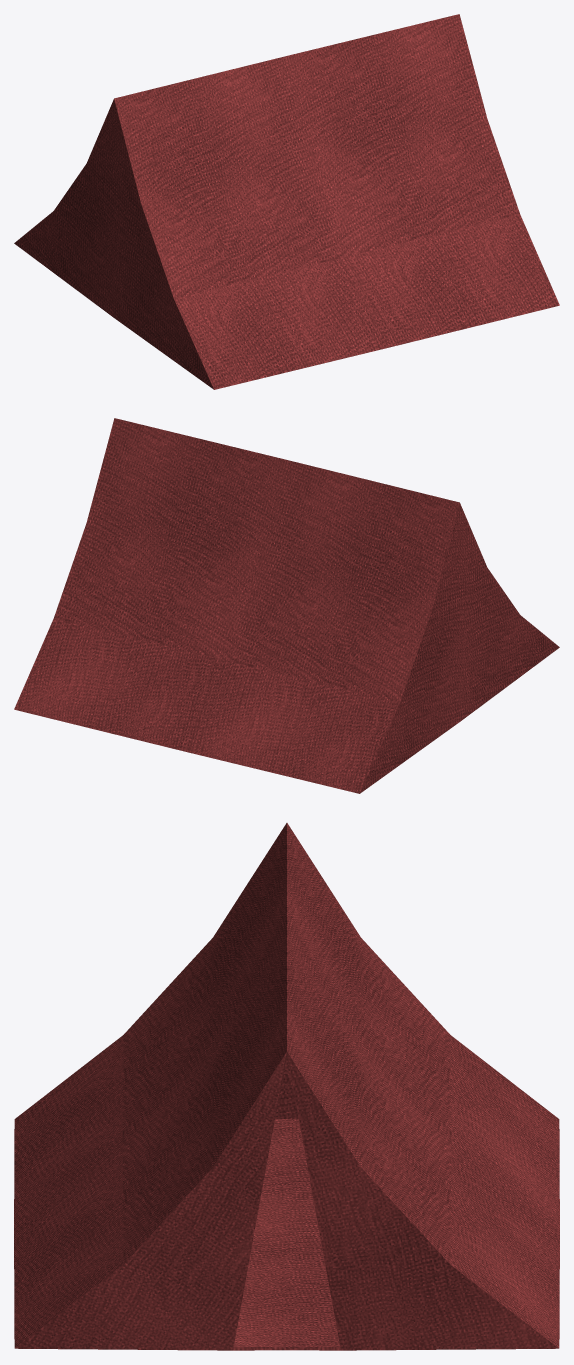
Rendered from Tent.fbx.
The picture shows the model from 3 angles, top to bottom: view 1: azimuth 30°, elevation 25°; view 2: azimuth 150°, elevation 25°; view 3: azimuth 270°, elevation 25°; orthographic projection. The views are drawn at different scales.
Visible parts, largest first — view 1: Tent; view 2: Tent; view 3: Tent.
Part boxes in pixels (<box>): Tent: <box>14,14,559,389</box>; Tent: <box>14,418,559,793</box>; Tent: <box>14,823,559,1350</box>.
Size of the model in its own units: 303 by 184 by 304.
Materials: 1 (1 with a texture image).
